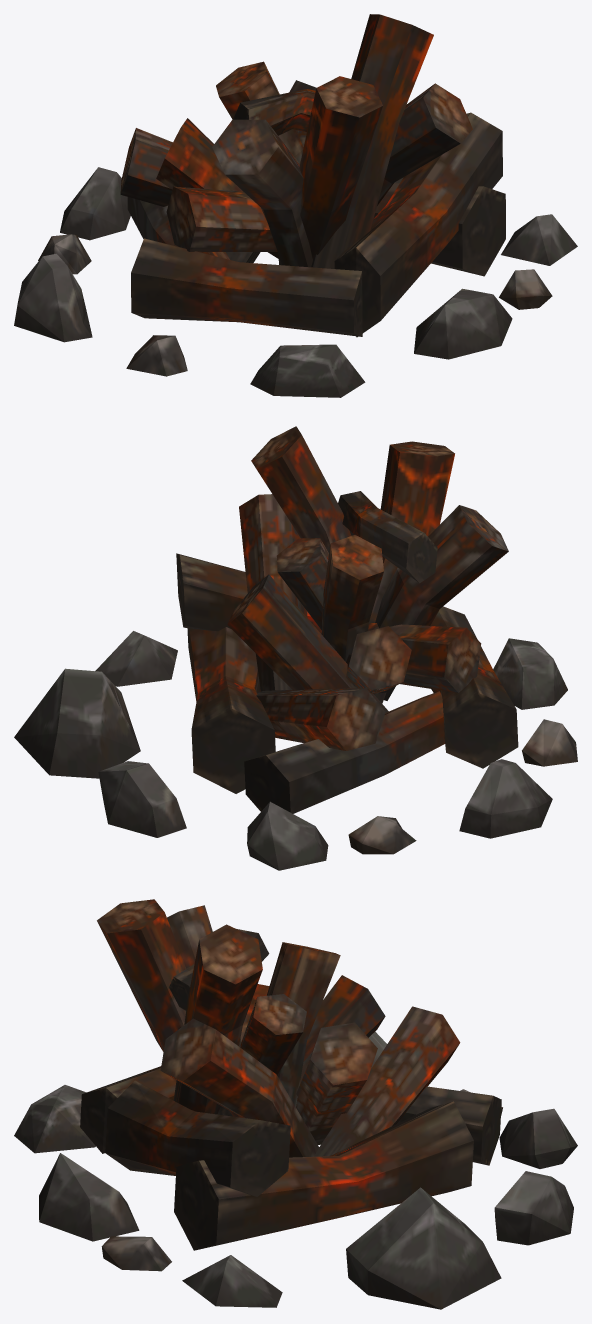
Rendered from huodui.FBX.
3 renders of one model, top to bottom at view 1: azimuth 30°, elevation 25°; view 2: azimuth 150°, elevation 25°; view 3: azimuth 270°, elevation 25°, orthographic. The views are drawn at different scales.
Visible parts, largest first — view 1: fb984018; view 2: fb984018; view 3: fb984018.
Part boxes in pixels (<box>): fb984018: <box>14,14,577,397</box>; fb984018: <box>14,426,577,870</box>; fb984018: <box>14,899,577,1309</box>.
Bounding box in the file's own units: 1.41 × 0.771 × 1.34.
